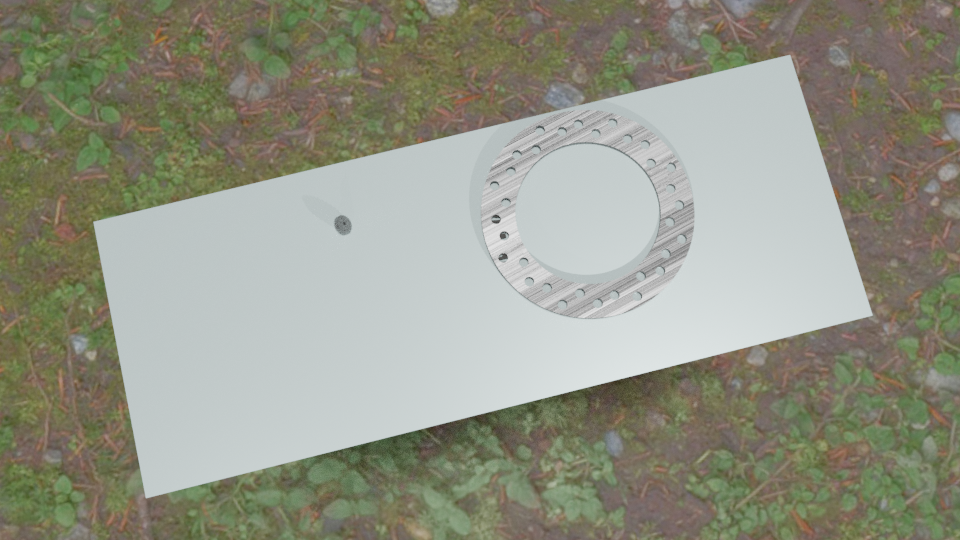yamaha_letters: (490, 214, 509, 263)
